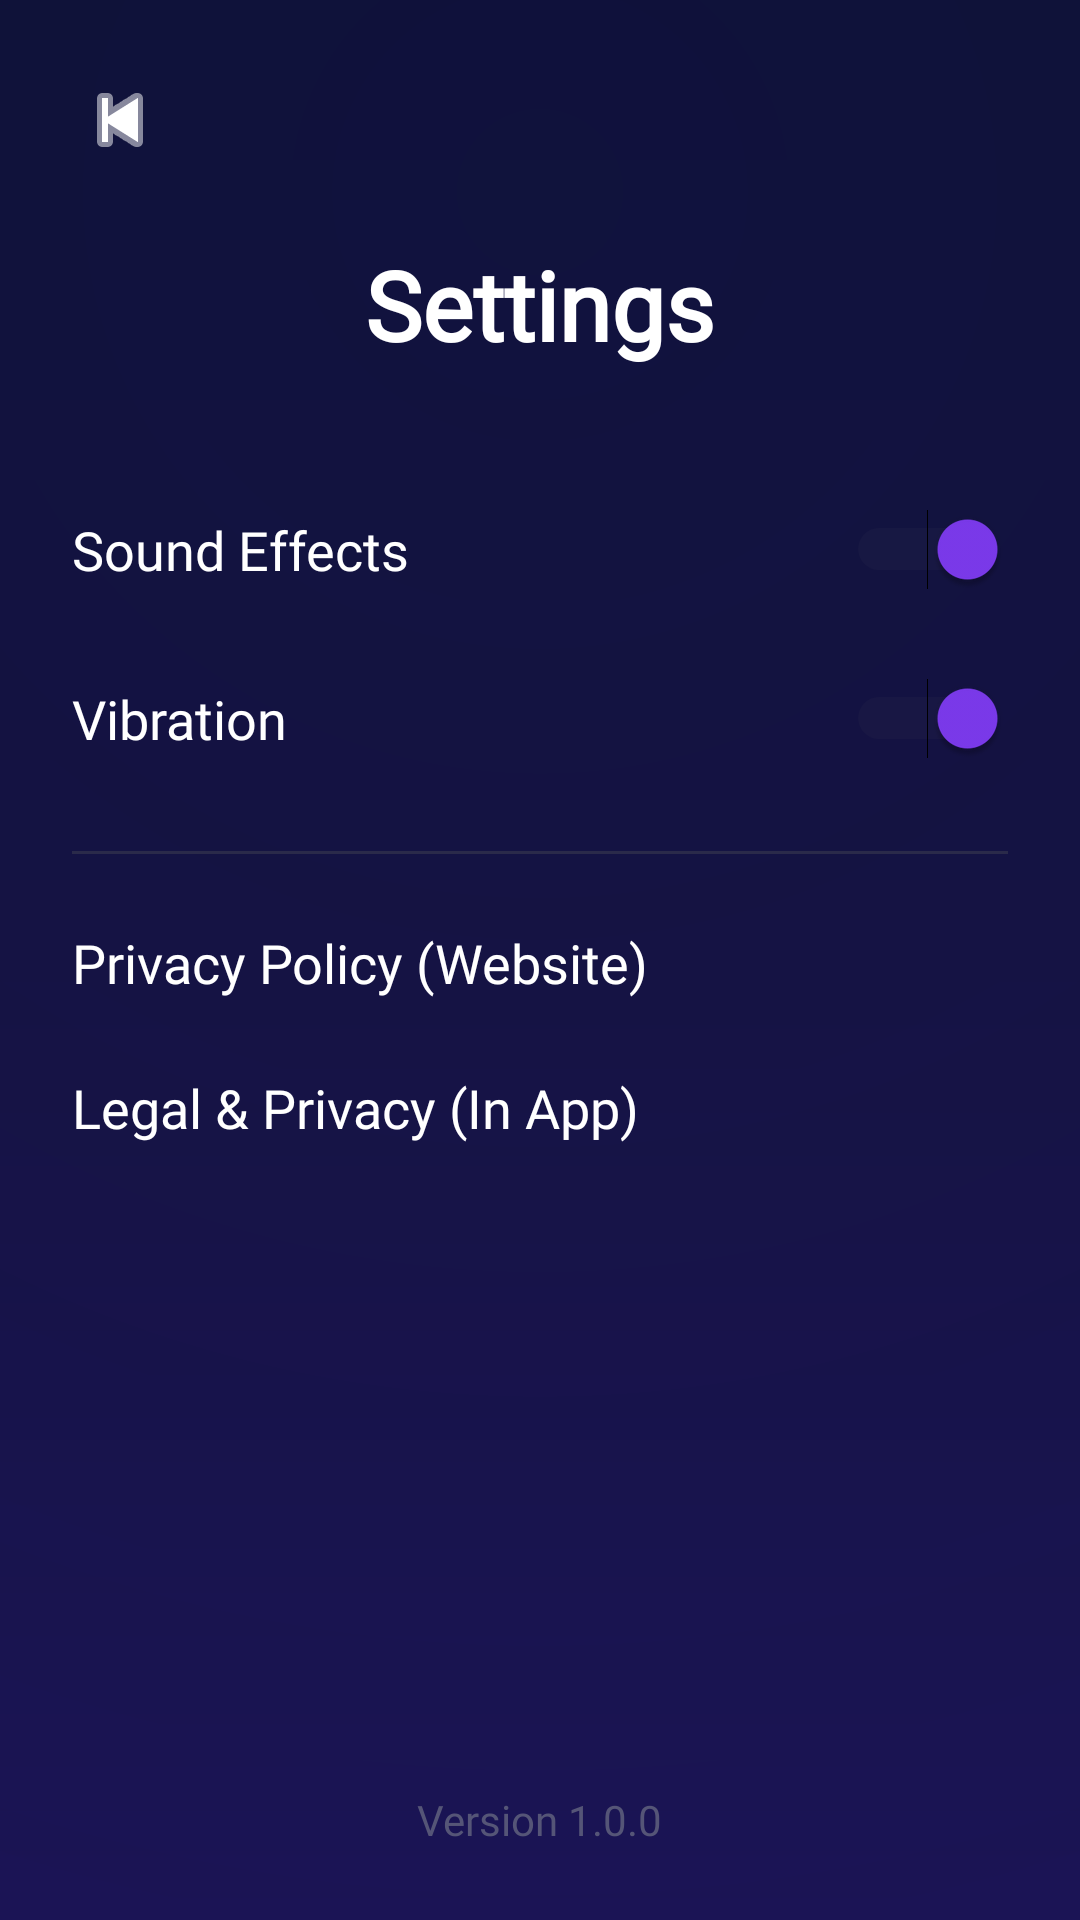

Icon click points for this 1080px×1920px phone screenshot, format point (x, y):
previous: point (120, 120)
